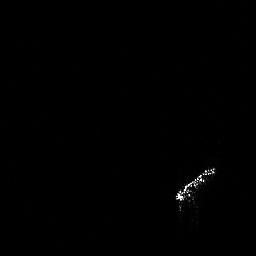ship: (175, 167, 219, 214)
